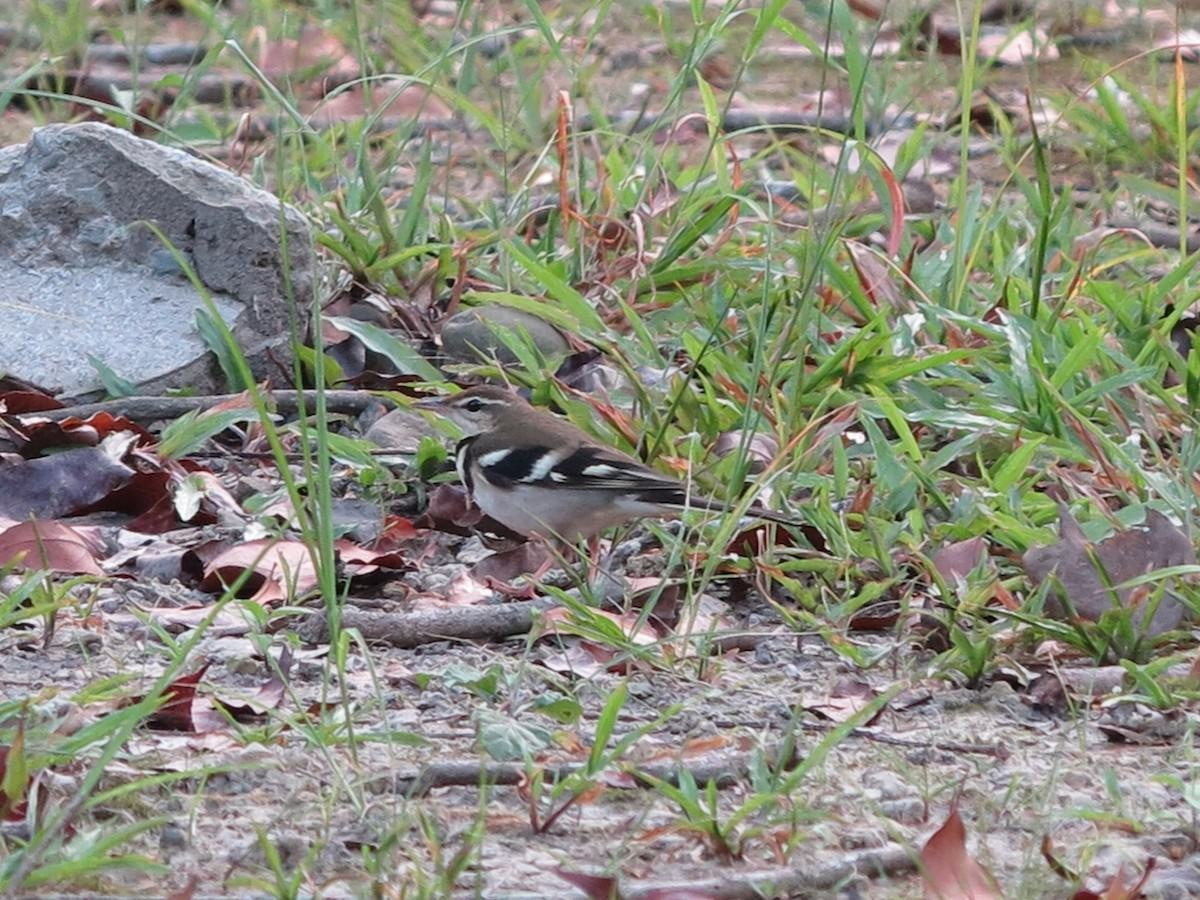wagtail: (414, 382, 743, 583)
